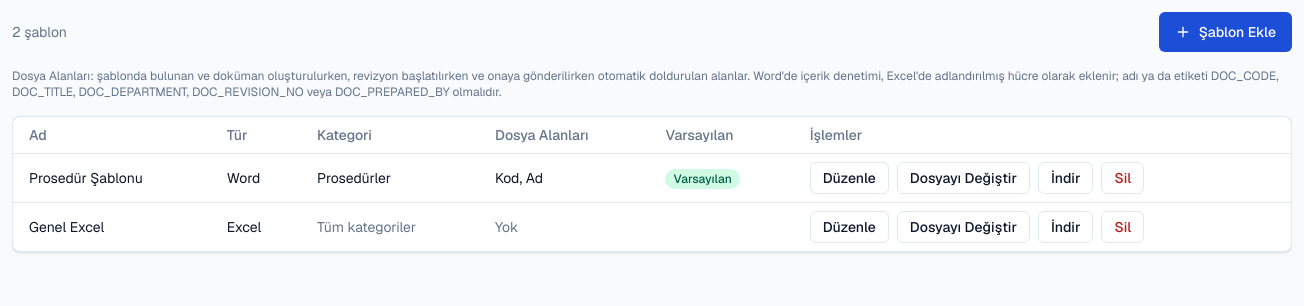
Scenario: TemplateAdmin changing › tells when the download fails
Click the button "İndir" in the row of "Prosedür Şablonu": (1066, 178) left=1038, top=162, right=1093, bottom=194
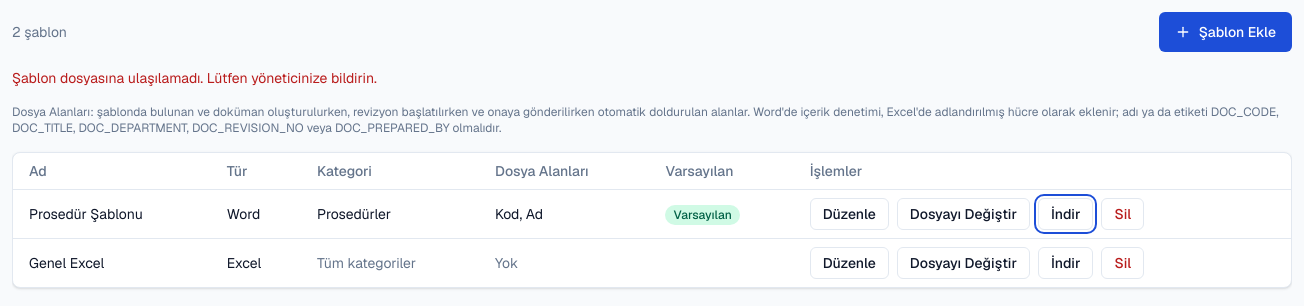
Check: the message reads "Şablon dosyasına ulaşılamadı. Lütfen yöneticinize bildirin.", box left=12, top=69, right=377, bottom=87
